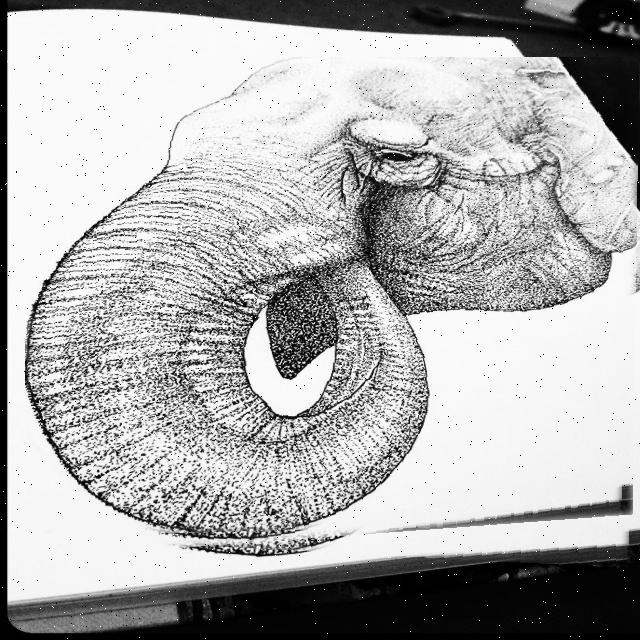elephant: (25, 57, 640, 560)
